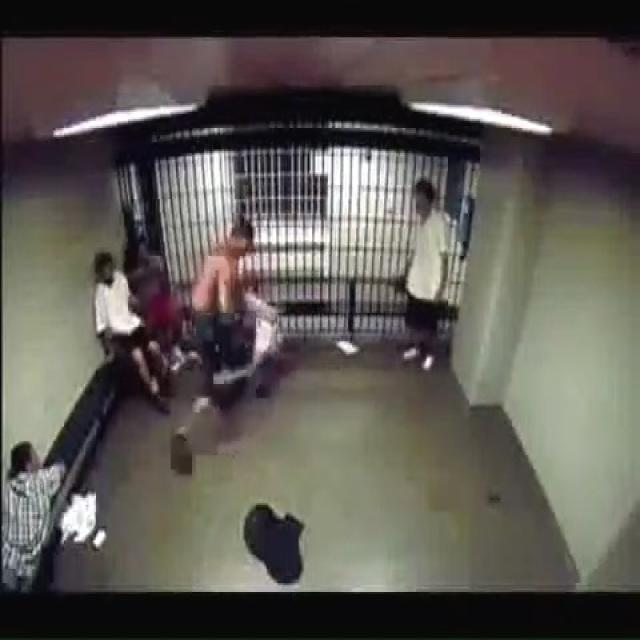fight: (170, 218, 284, 479)
